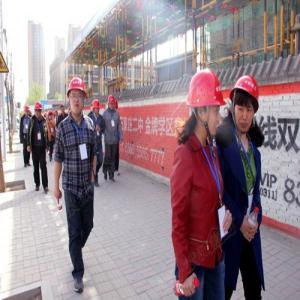none: (61, 105, 66, 115)
red: (186, 67, 225, 138), (232, 75, 260, 134), (67, 77, 88, 116), (92, 99, 102, 116), (34, 102, 44, 118), (109, 95, 117, 112), (25, 105, 30, 117), (48, 110, 53, 120), (55, 109, 60, 117)
